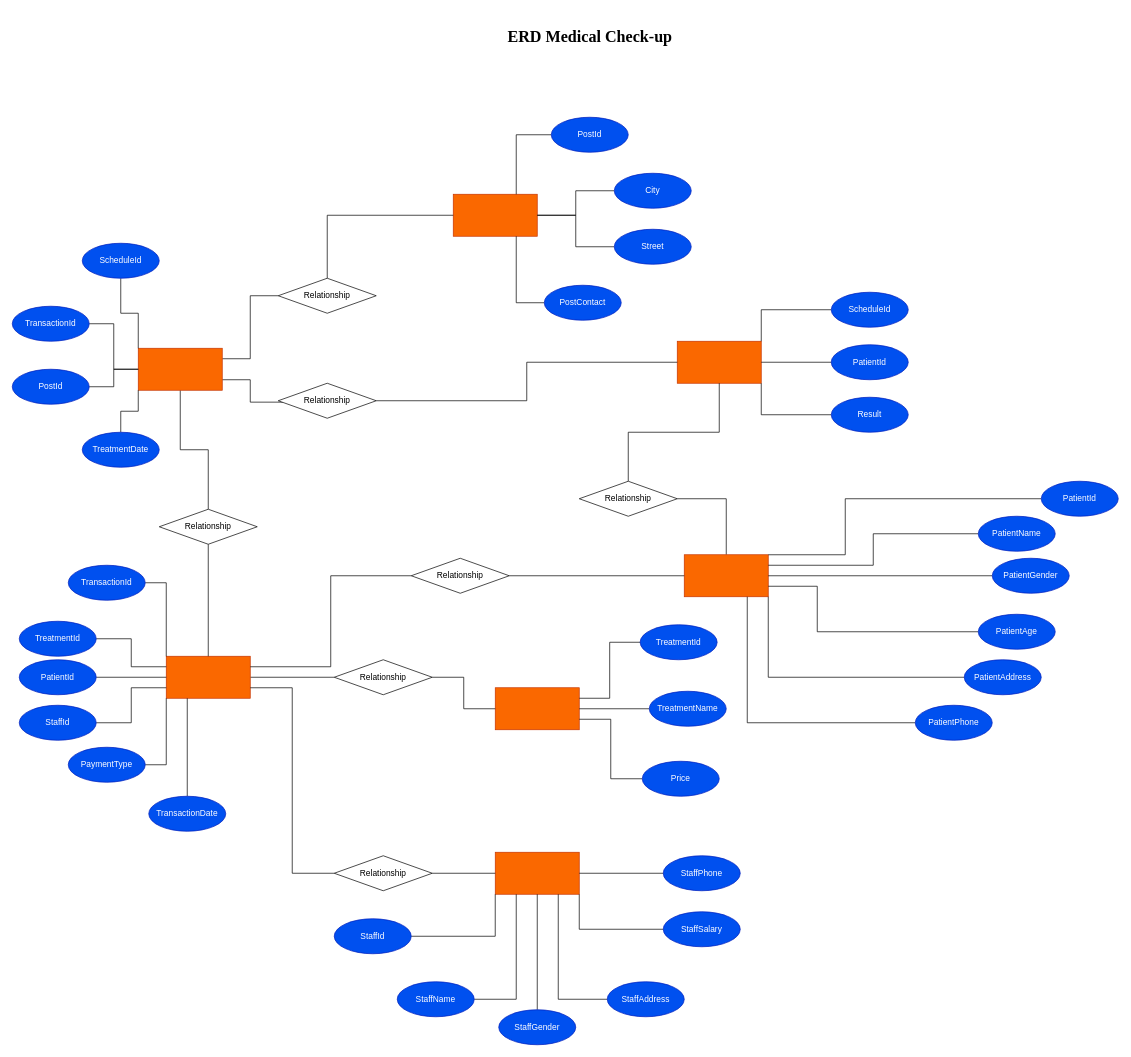
Image size: 1131x1057. Some labels were removed from this diagram. Here are the shapes that lost their labels. From the top down, the centre of each, then its label:
(x=495, y=215): Post
(x=180, y=369): Schedule
(x=719, y=362): TestResults
(x=726, y=575): Patient
(x=208, y=677): Transactions
(x=537, y=708): TreatmentType
(x=537, y=873): Staff
